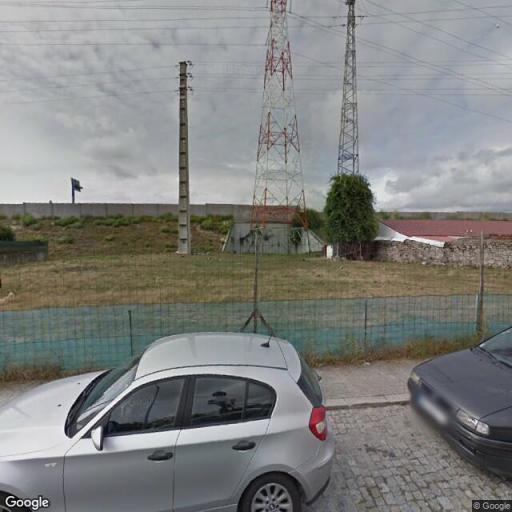mono_9: (173, 58, 196, 254)
